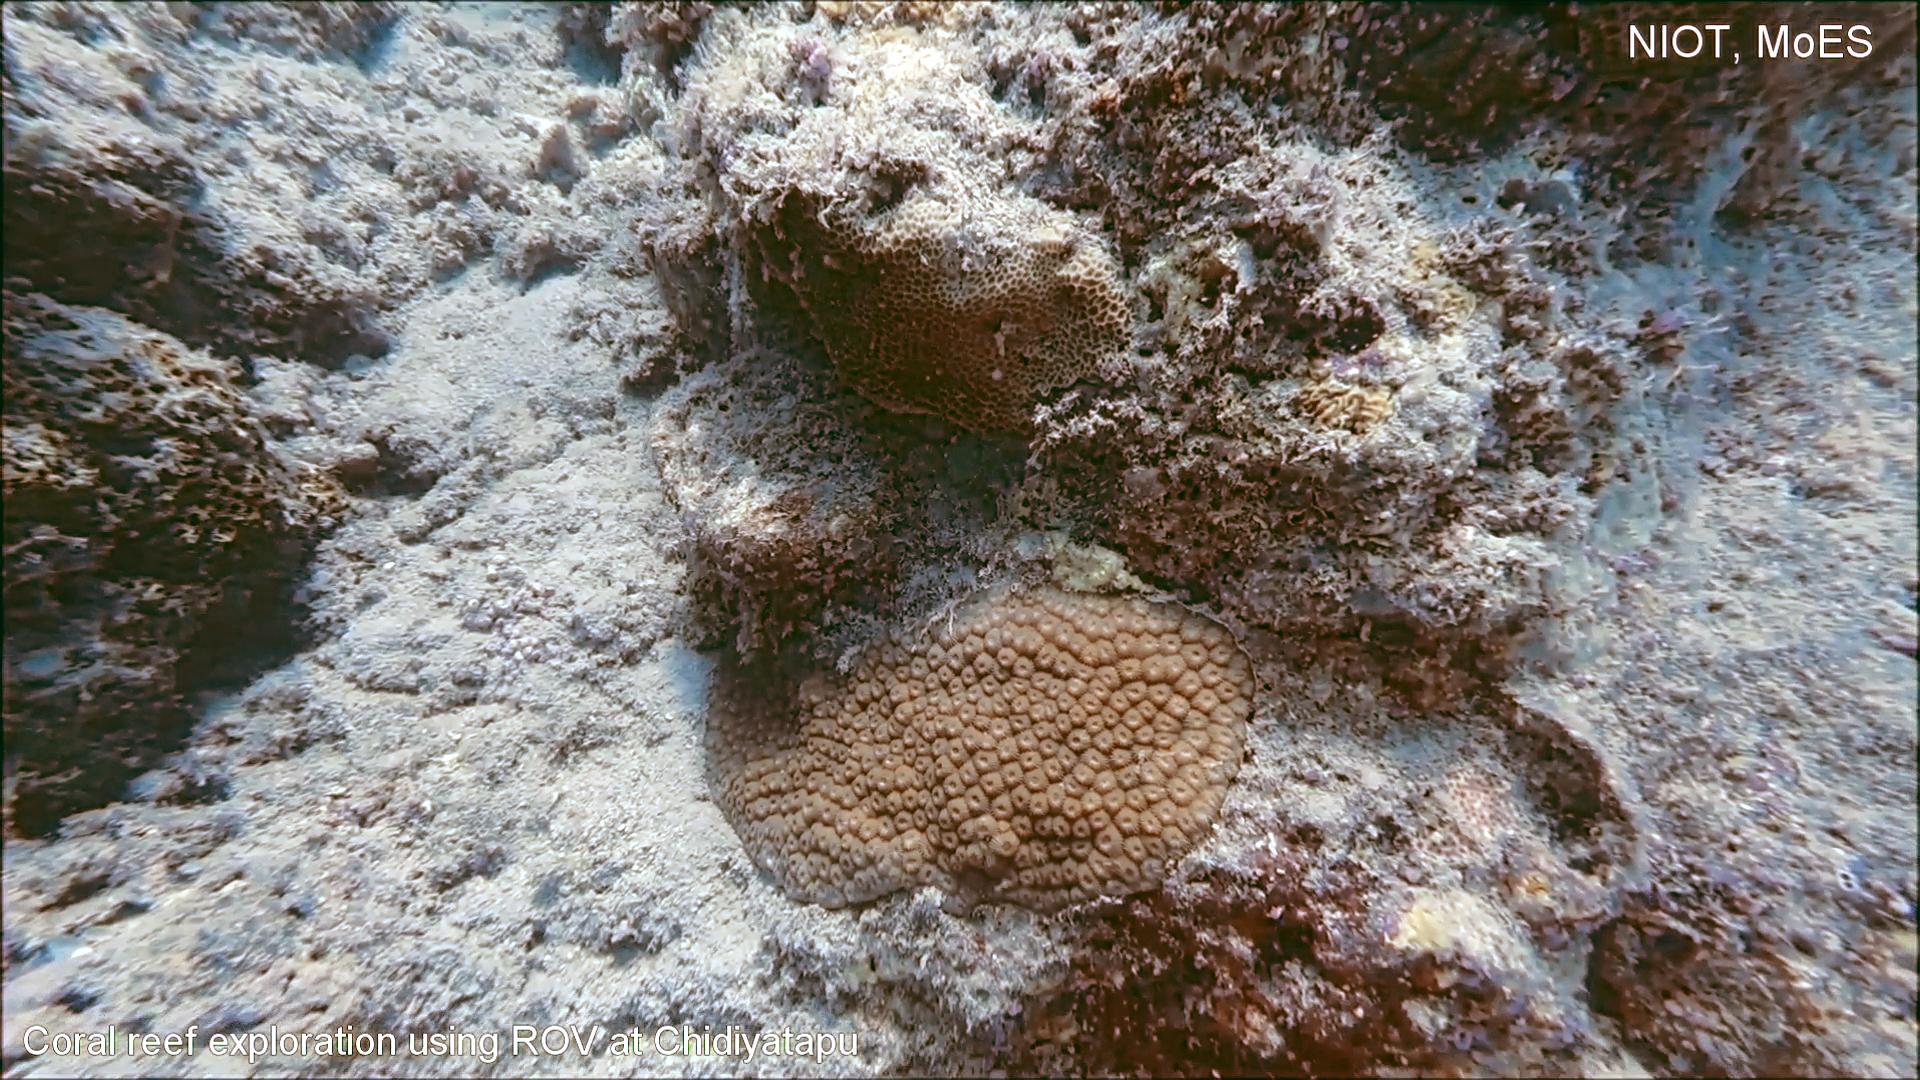Montastraea: (694, 558, 1266, 932)
